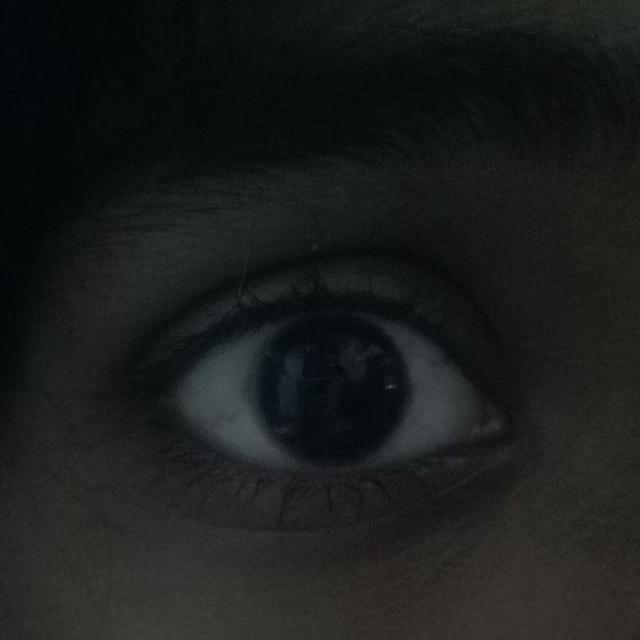eye: (165, 306, 494, 479)
iris: (254, 319, 412, 463)
